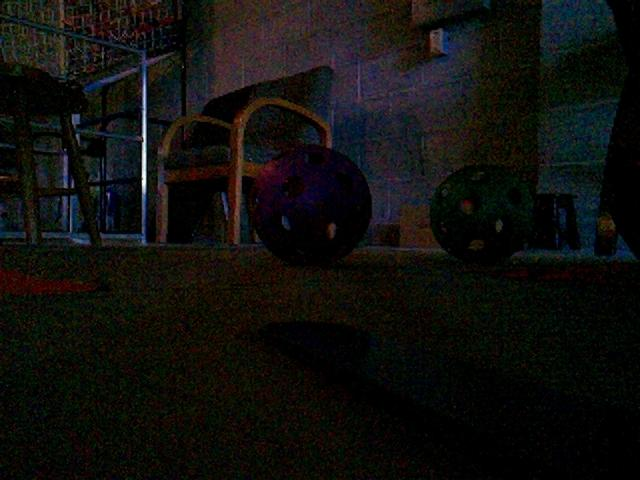Green: (427, 163, 536, 264)
Purple: (247, 145, 373, 266)
